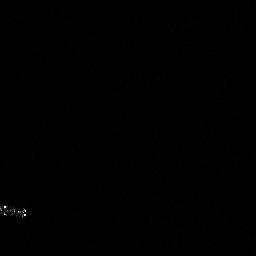ship: (1, 201, 31, 220)
